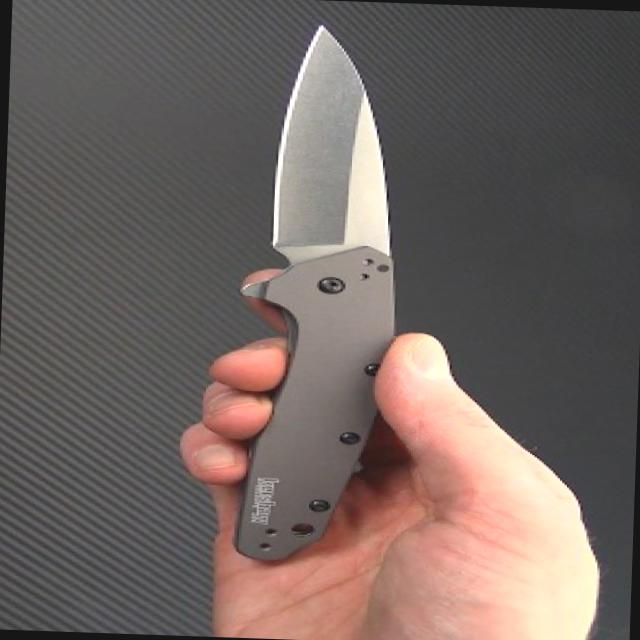knife: (168, 9, 424, 572)
